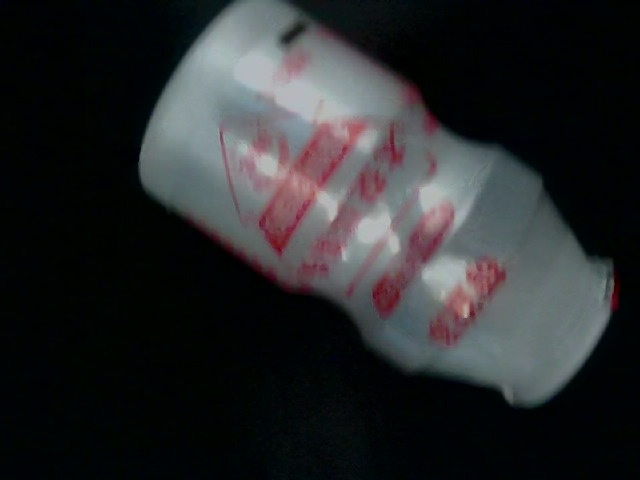CYLJ: (20, 204, 120, 311)
